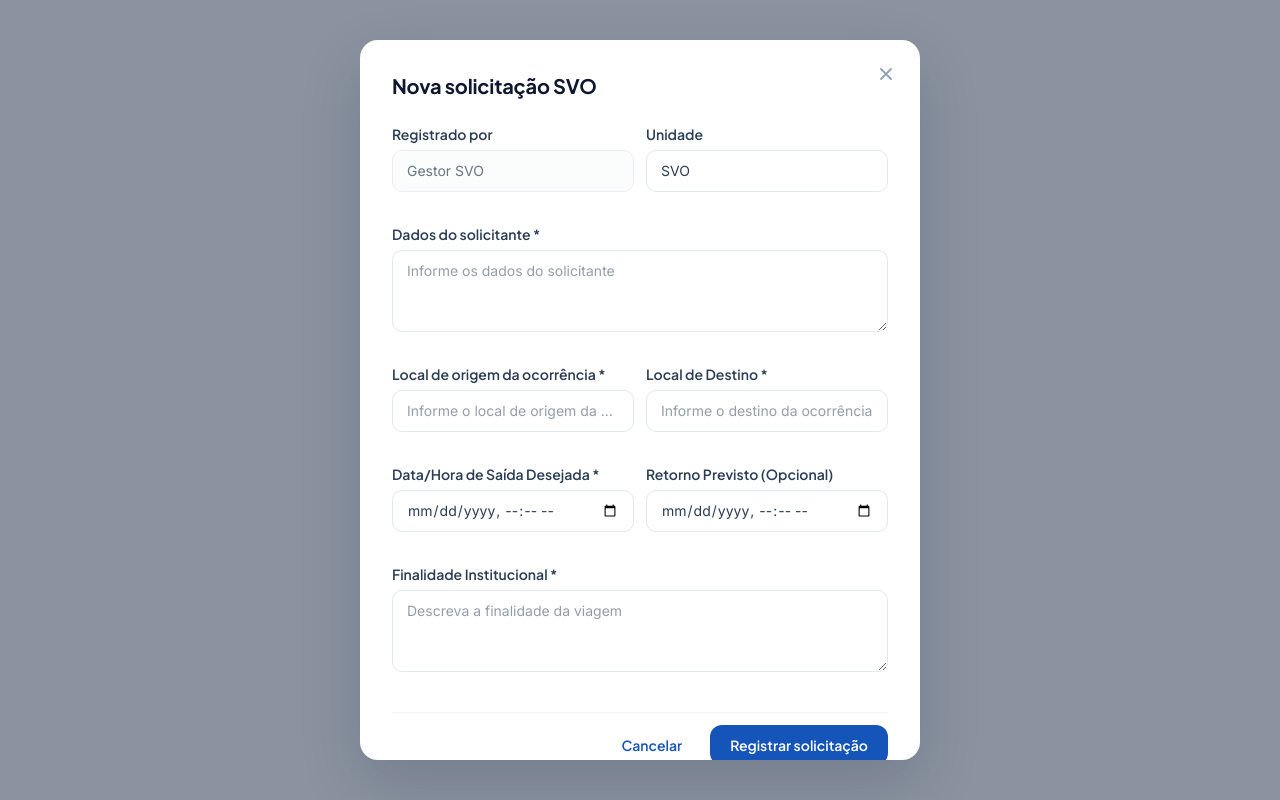
Test case: Nova solicitação SVO › mostra erro 400 e permite nova tentativa sem informar sucesso
The width and height of the screenshot is (1280, 800).
In the text box labelled "Dados do solicitante *": coordinates (640, 291) top-left (392, 250), bottom-right (888, 332), type "Pessoa"
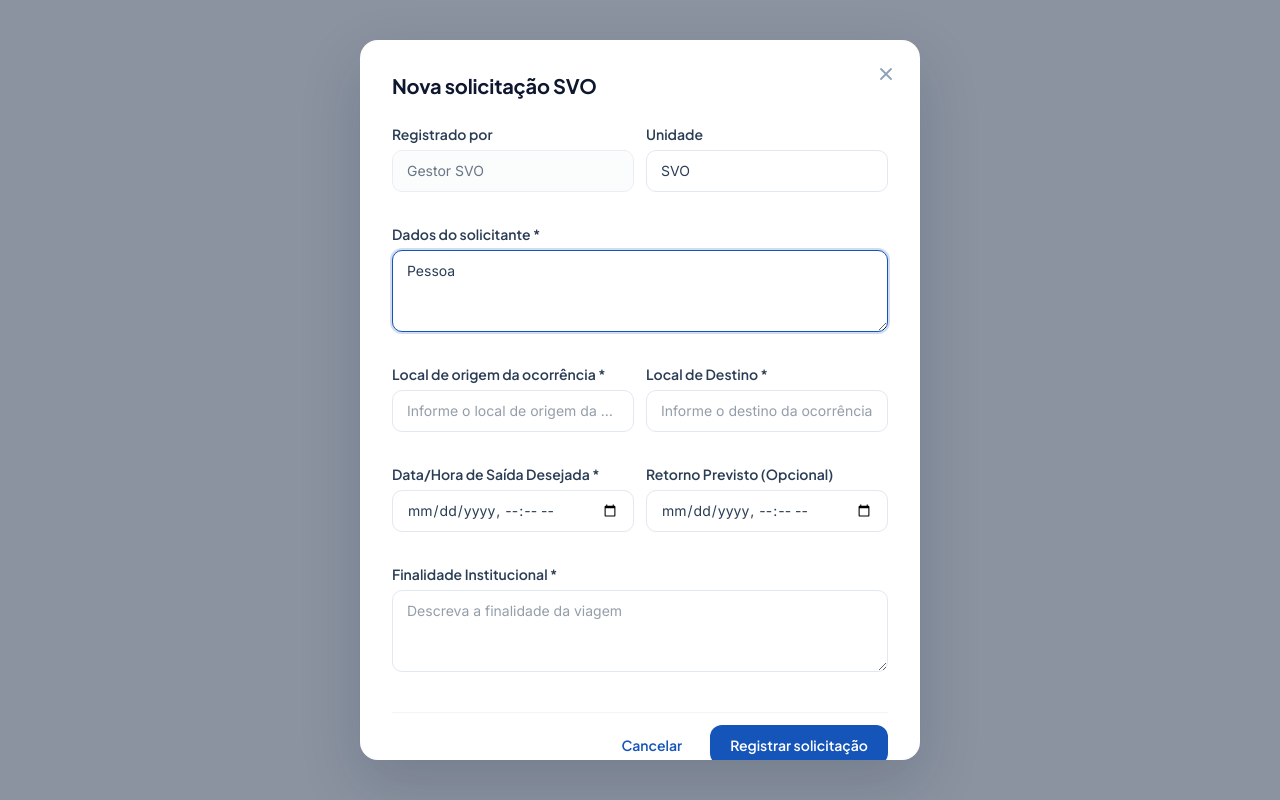
In the field labelled "Local de origem da ocorrência *": coordinates (513, 411) top-left (392, 390), bottom-right (634, 432), type "Rua A"
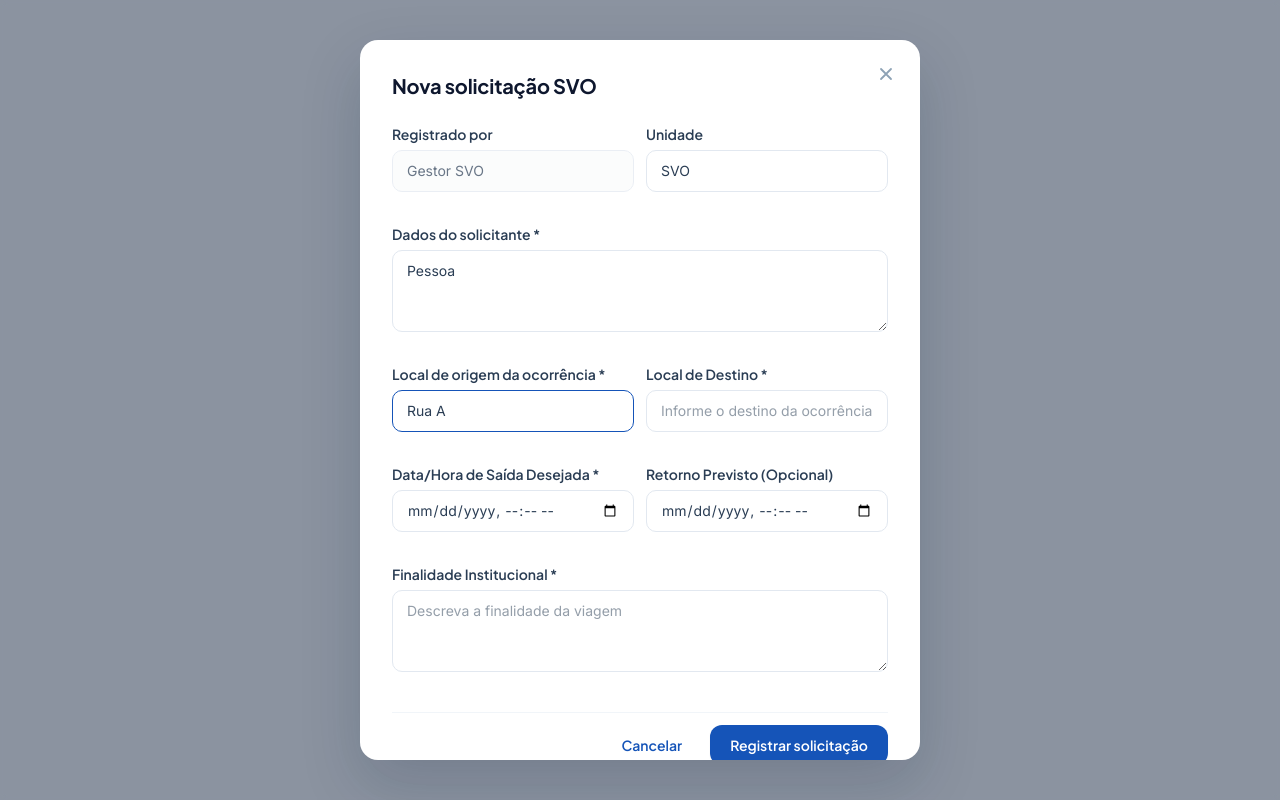
In the field labelled "Local de Destino *": coordinates (767, 411) top-left (646, 390), bottom-right (888, 432), type "SVO"
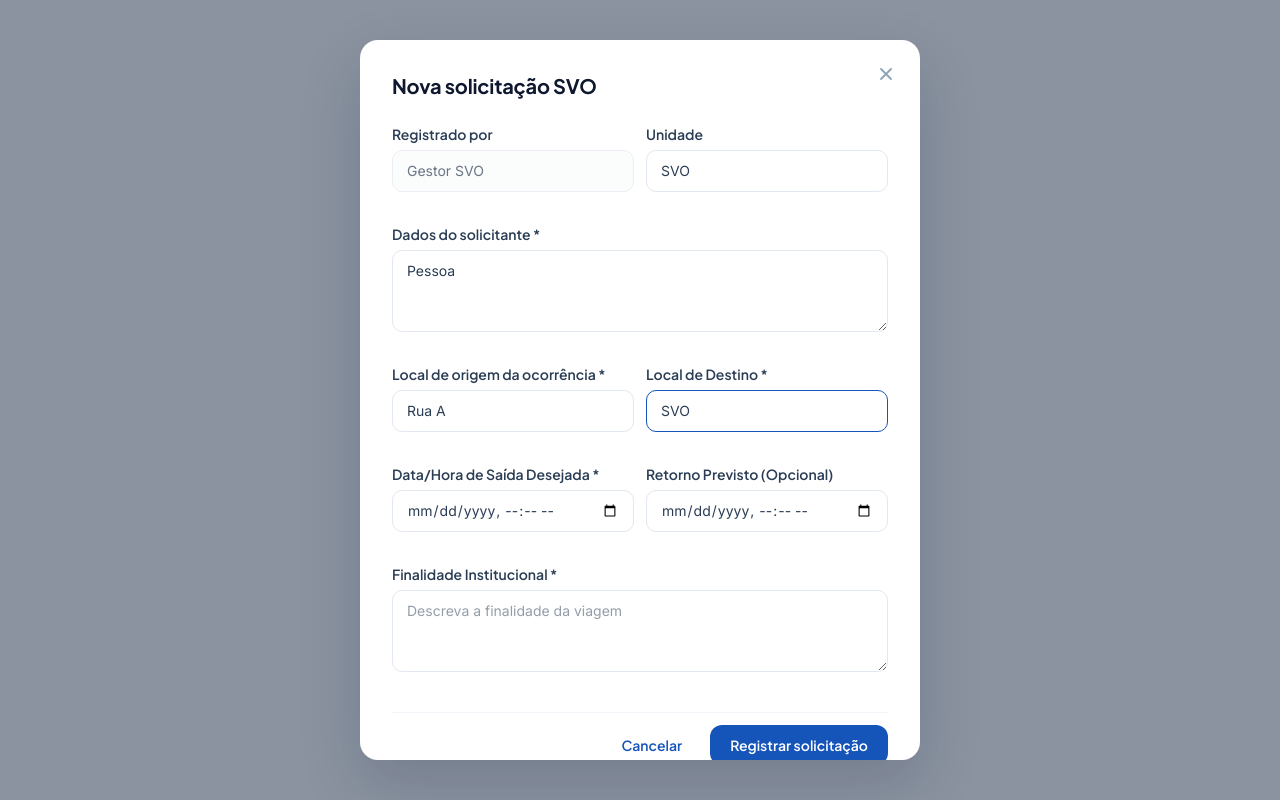
In the field labelled "Data/Hora de Saída Desejada *": coordinates (513, 511) top-left (392, 490), bottom-right (634, 532), type "2099-01-01T10:00"
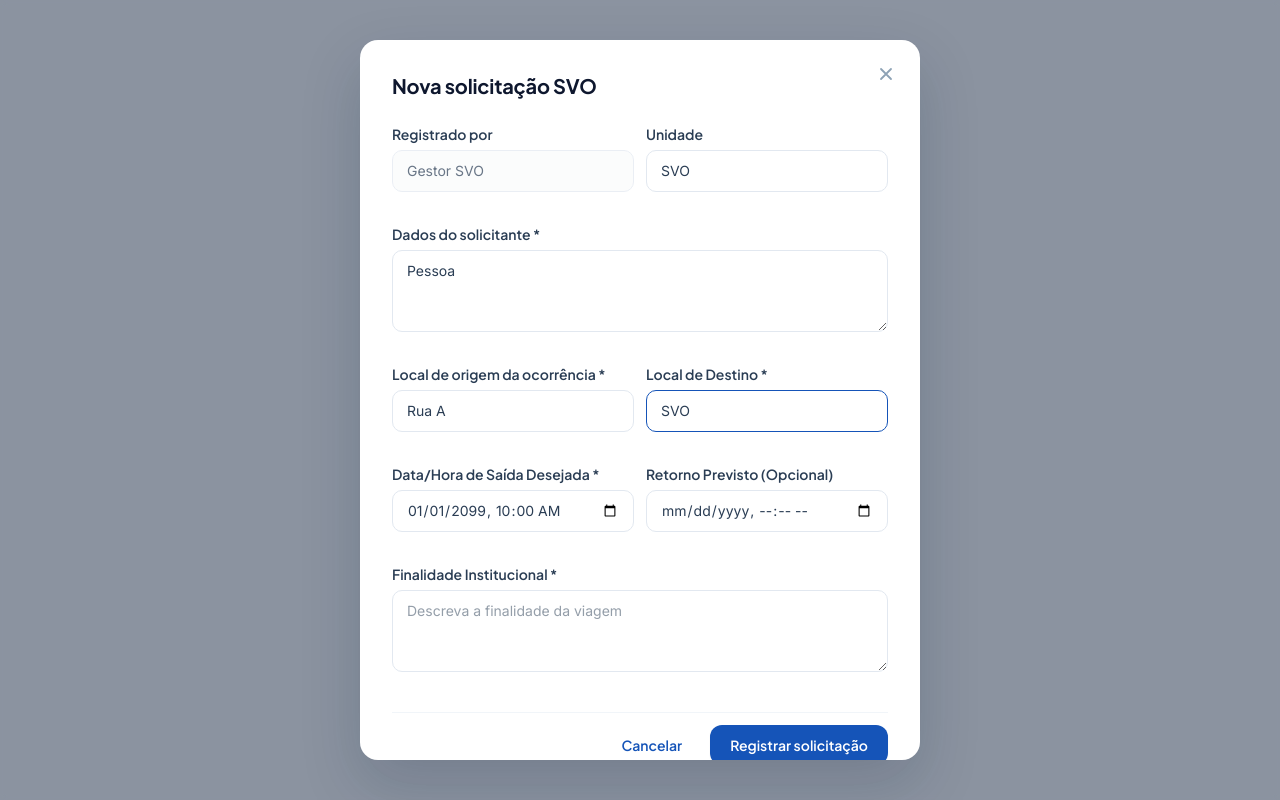
In the text box labelled "Finalidade Institucional *": coordinates (640, 631) top-left (392, 590), bottom-right (888, 672), type "Coleta"
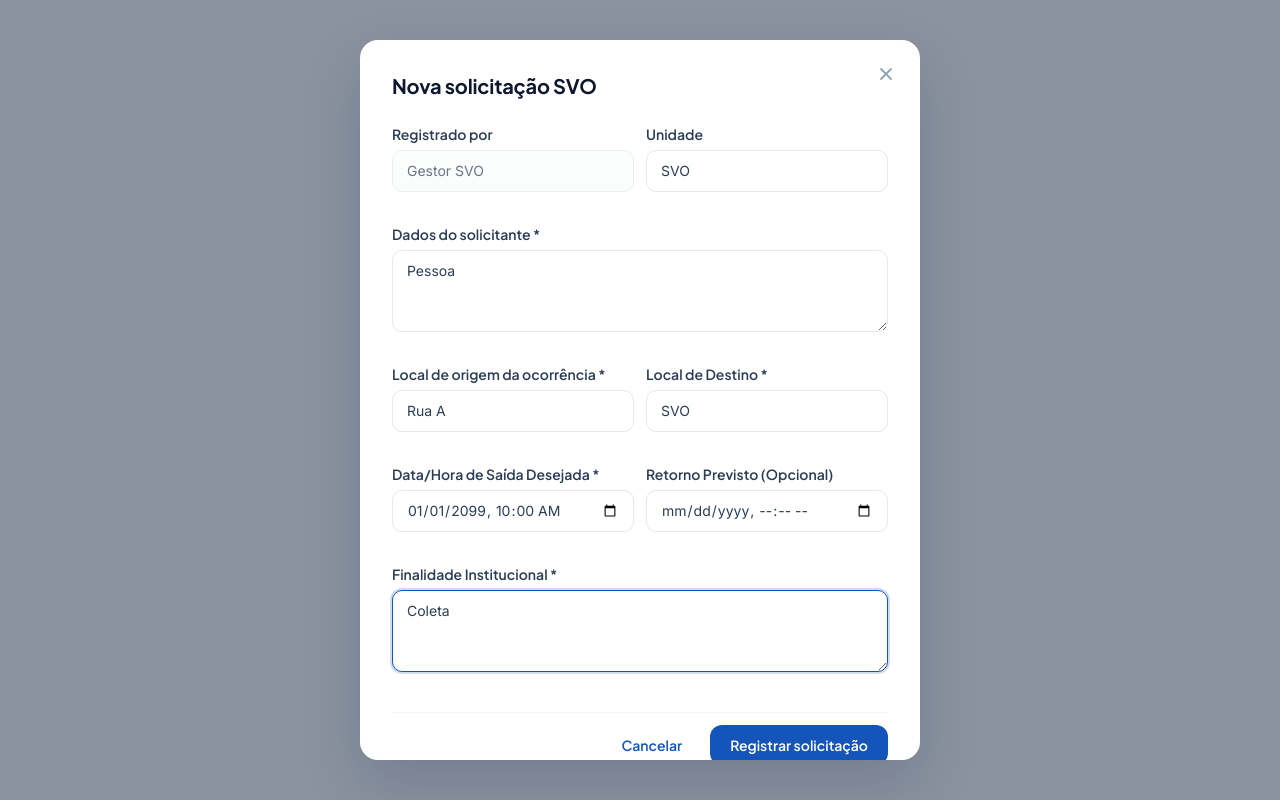
Click the button "Registrar solicitação": coordinates (799, 745) top-left (710, 725), bottom-right (888, 765)
(page scrolled)
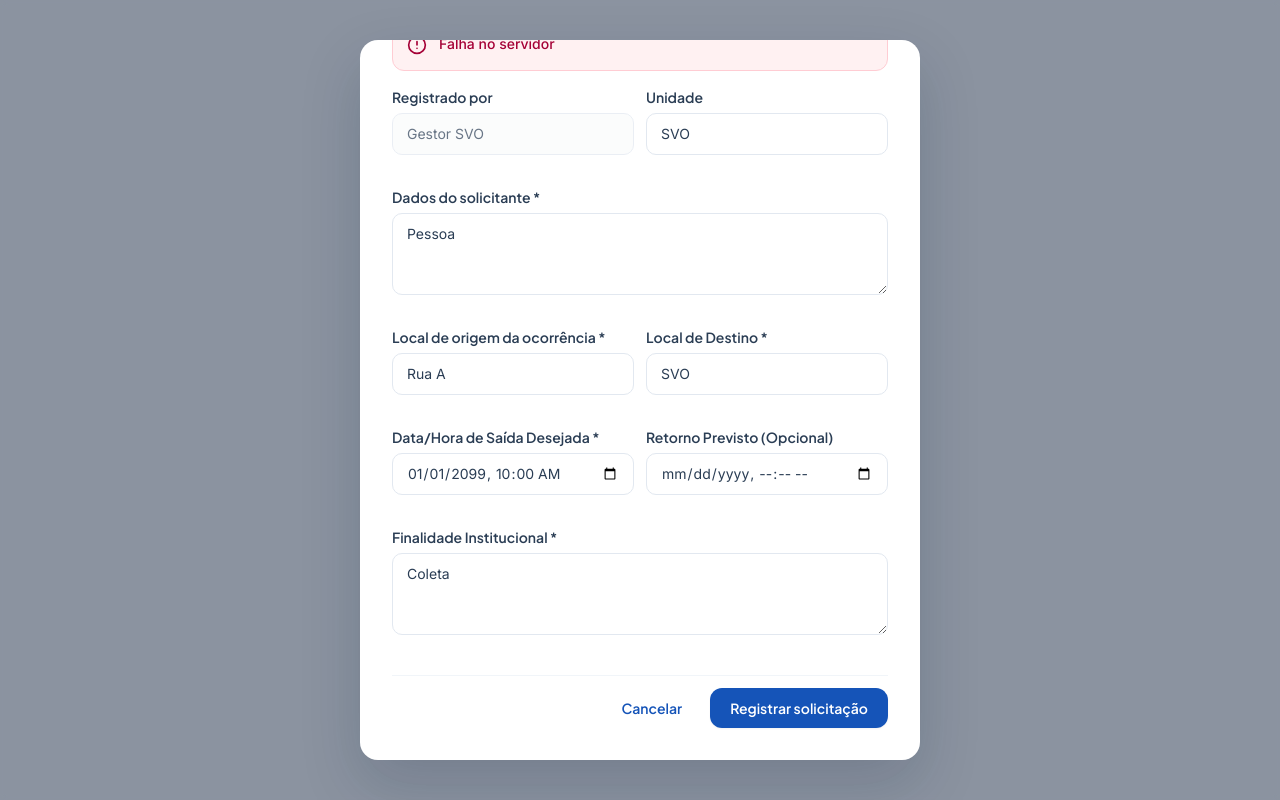
Expected: the button "Registrar solicitação" is enabled, top-left (710, 688), bottom-right (888, 728)
Now the text "Falha no servidor" is shown, box top-left (439, 40), bottom-right (555, 52)
